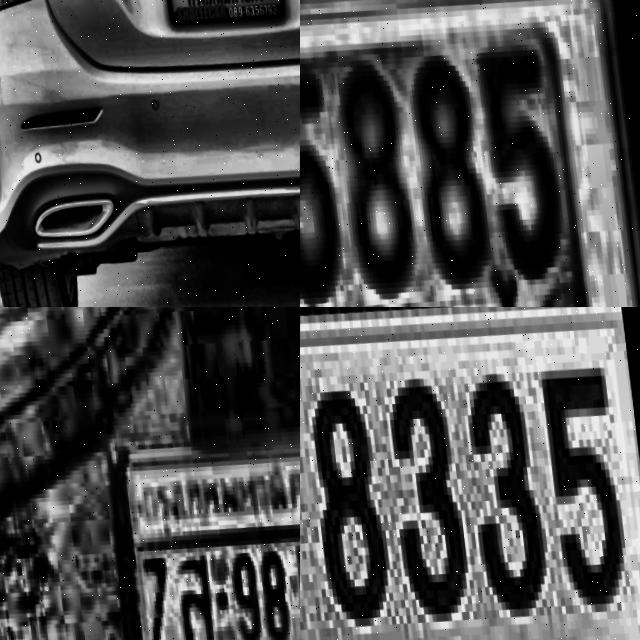license-plate: (300, 307, 640, 640), (300, 0, 640, 307), (92, 396, 300, 640), (157, 0, 285, 25)
